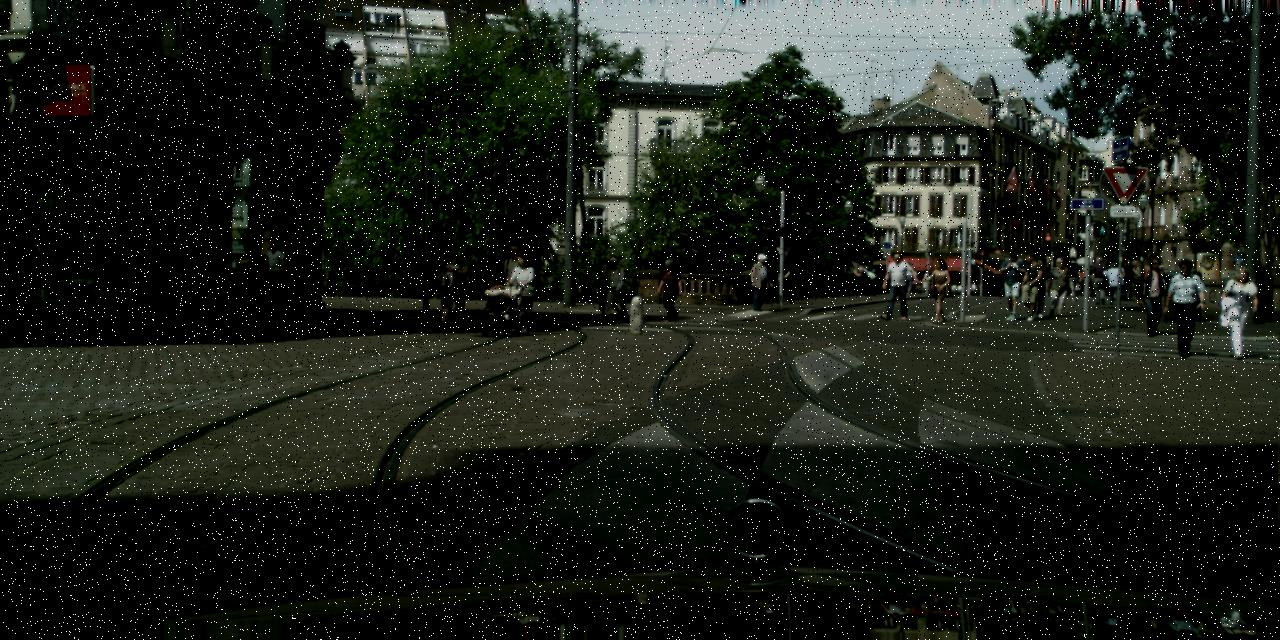ped: (1164, 258, 1205, 357), (1222, 265, 1260, 359), (434, 242, 470, 331), (1137, 253, 1170, 336), (506, 251, 538, 331), (497, 243, 527, 319), (996, 247, 1026, 321), (882, 252, 910, 320), (1016, 252, 1044, 320), (602, 256, 628, 321), (926, 257, 952, 322), (597, 256, 622, 320), (658, 258, 683, 322), (1028, 256, 1052, 318), (1045, 256, 1069, 316), (749, 252, 772, 310), (773, 249, 795, 303), (1090, 256, 1109, 304), (1122, 259, 1140, 300), (1105, 262, 1122, 304), (1064, 256, 1080, 296), (1116, 259, 1131, 299), (899, 260, 914, 296), (859, 265, 870, 294), (921, 267, 931, 294)
